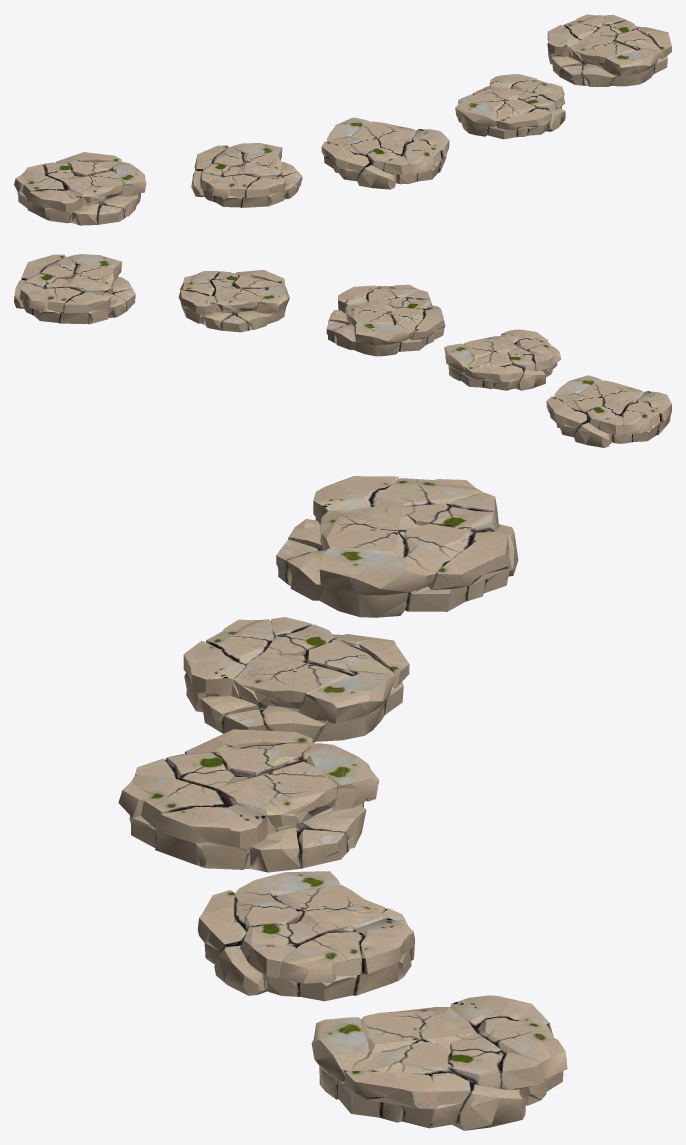
File: SteppingStones.lod1.glb
3 renders of one model, top to bottom at view 1: azimuth 30°, elevation 25°; view 2: azimuth 150°, elevation 25°; view 3: azimuth 270°, elevation 25°, orthographic. The views are drawn at different scales.
Bounding box in the file's own units: 3.49 × 0.1253 × 1.07.
1 material, 1 textured.
